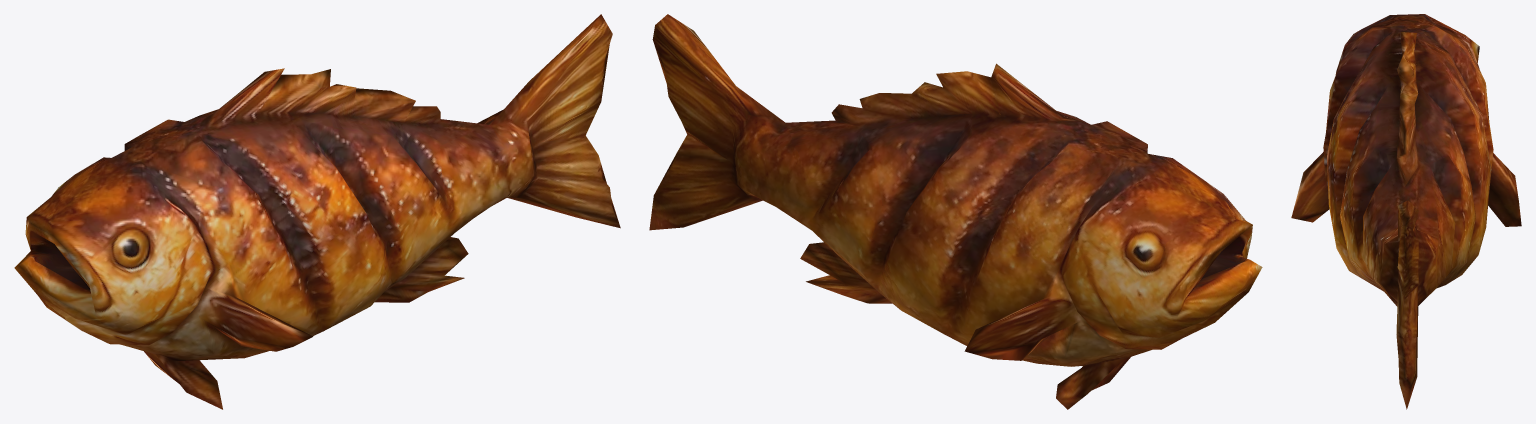
Rendered from meal_roastFish-desktop.glb.
3 views of the same model, side by side, from view 1: azimuth 30°, elevation 25°; view 2: azimuth 150°, elevation 25°; view 3: azimuth 270°, elevation 25° (orthographic). The views are drawn at different scales.
Parts seen in each view (by area): view 1: tripo_node_136f309f-9312-4609-adac-678ef4ffadf4; view 2: tripo_node_136f309f-9312-4609-adac-678ef4ffadf4; view 3: tripo_node_136f309f-9312-4609-adac-678ef4ffadf4.
Boxes of the visible parts, <box> form: tripo_node_136f309f-9312-4609-adac-678ef4ffadf4: <box>14,14,620,409</box>; tripo_node_136f309f-9312-4609-adac-678ef4ffadf4: <box>649,14,1262,409</box>; tripo_node_136f309f-9312-4609-adac-678ef4ffadf4: <box>1291,14,1521,409</box>.
Size of the model in its own units: 0.9789 by 0.5001 by 0.3554.
1 material, 1 textured.
